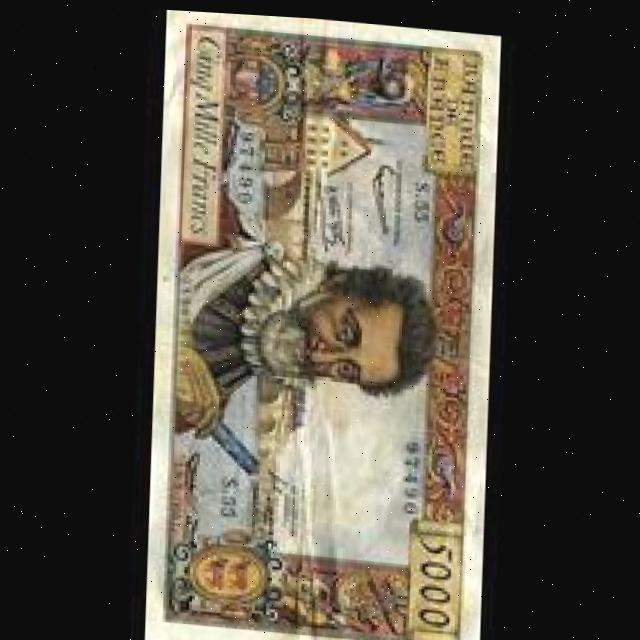banknote: (144, 7, 504, 640), (181, 29, 225, 159), (408, 526, 457, 630)
